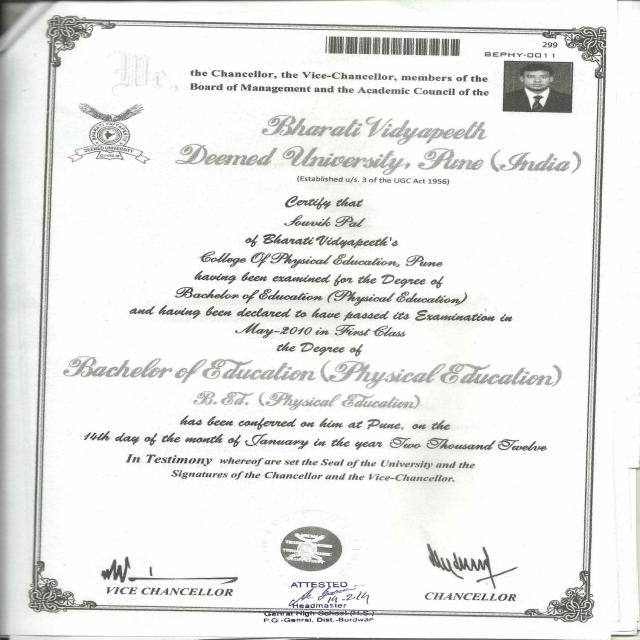degree: (60, 348, 582, 390)
signature: (94, 554, 250, 602), (424, 542, 527, 606)
stamp: (66, 100, 158, 172)
